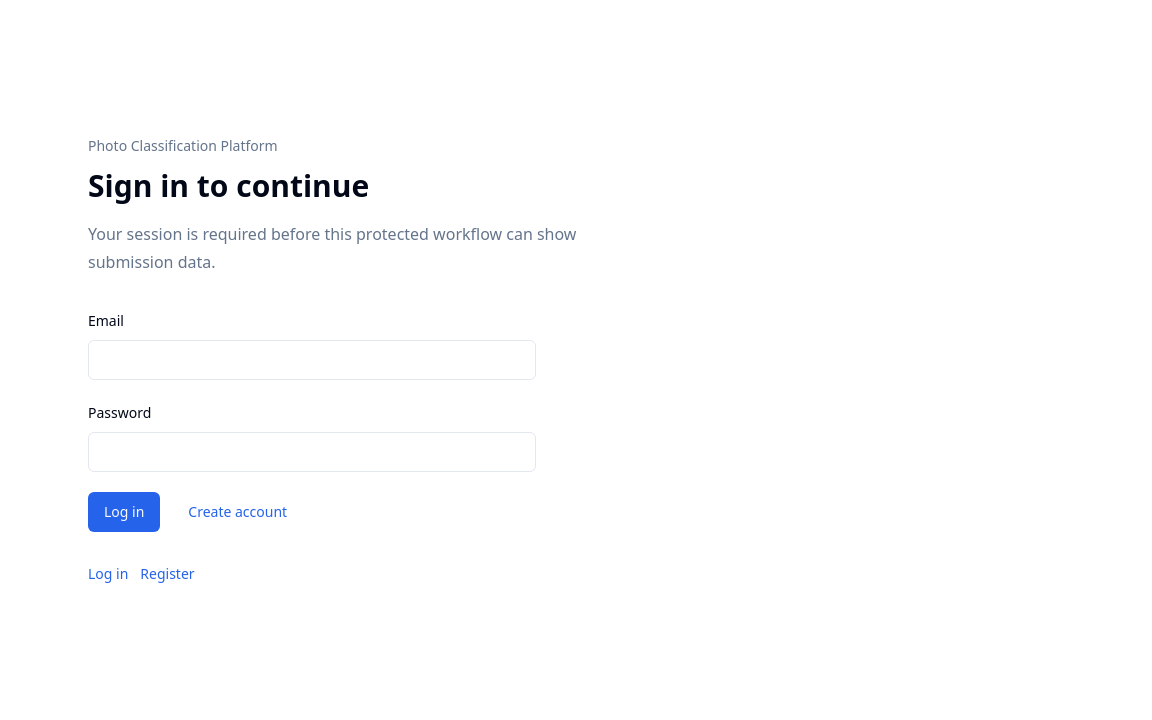
it: auth route flow › uses a neutral workspace fallback for unsafe return targets
Type "user@example.com" into the field labelled "Email".
click(312, 360); type("user@example.com")  # box [88,340,536,380]
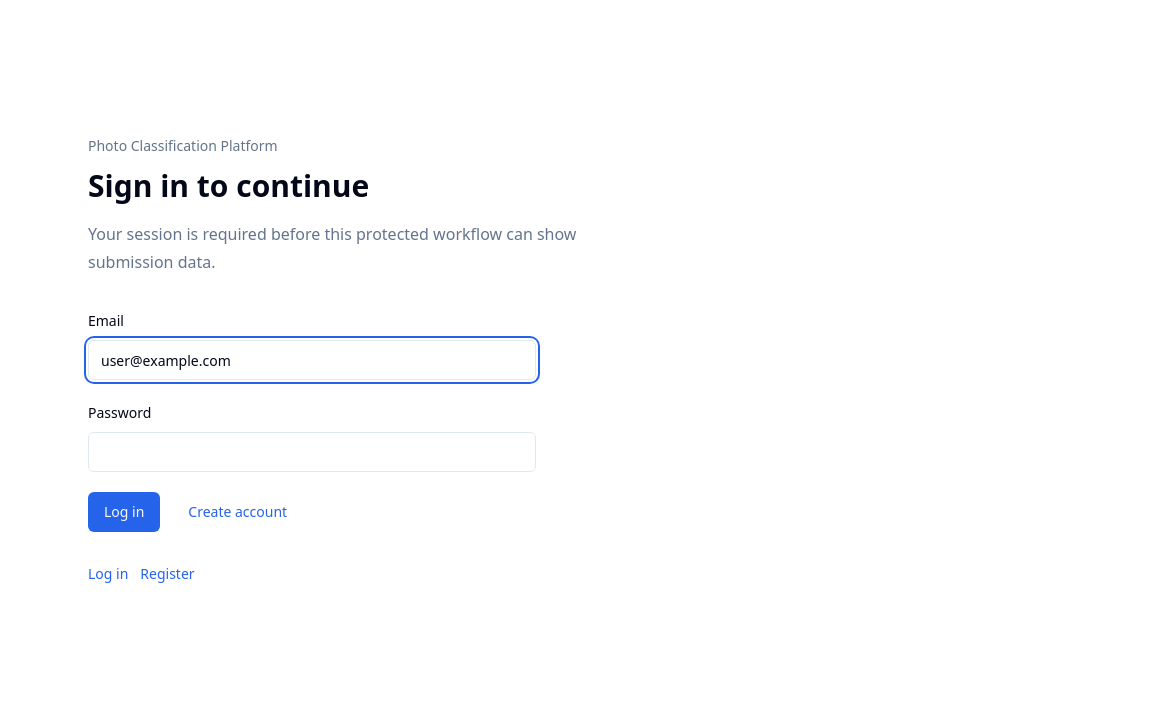
Type "StrongPassword123!" into the password field labelled "Password".
click(312, 452); type("StrongPassword123!")  # box [88,432,536,472]
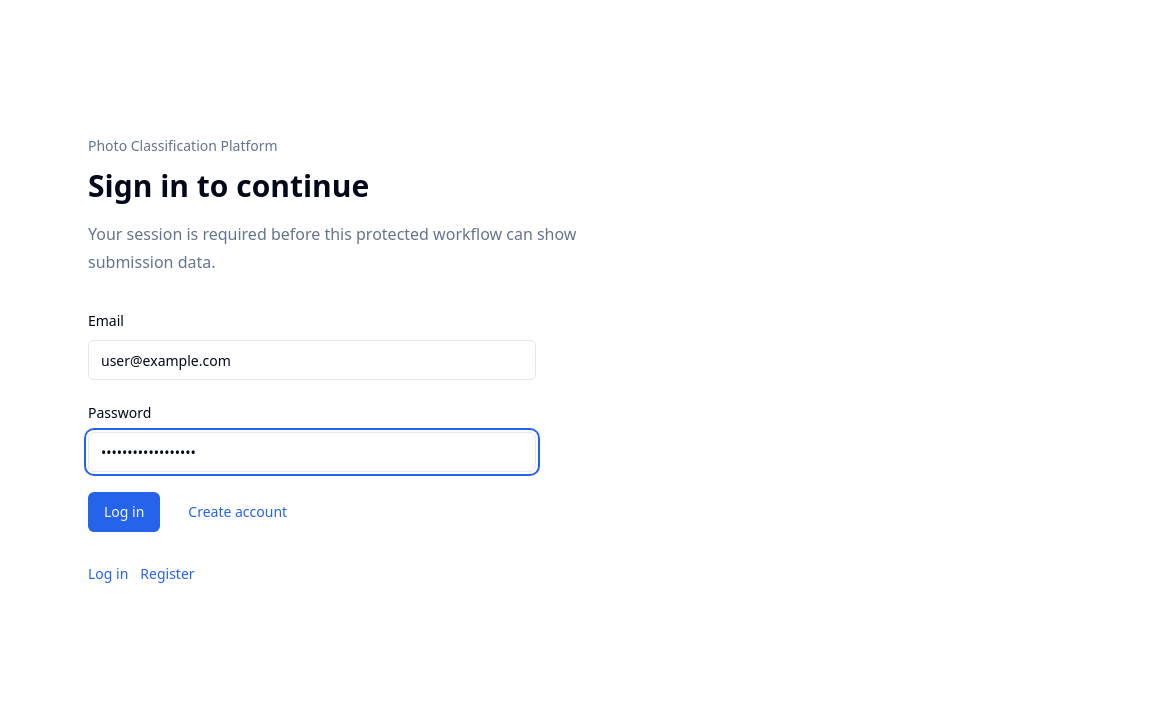
Click the button "Log in".
click(124, 512)  # box [88,492,160,532]
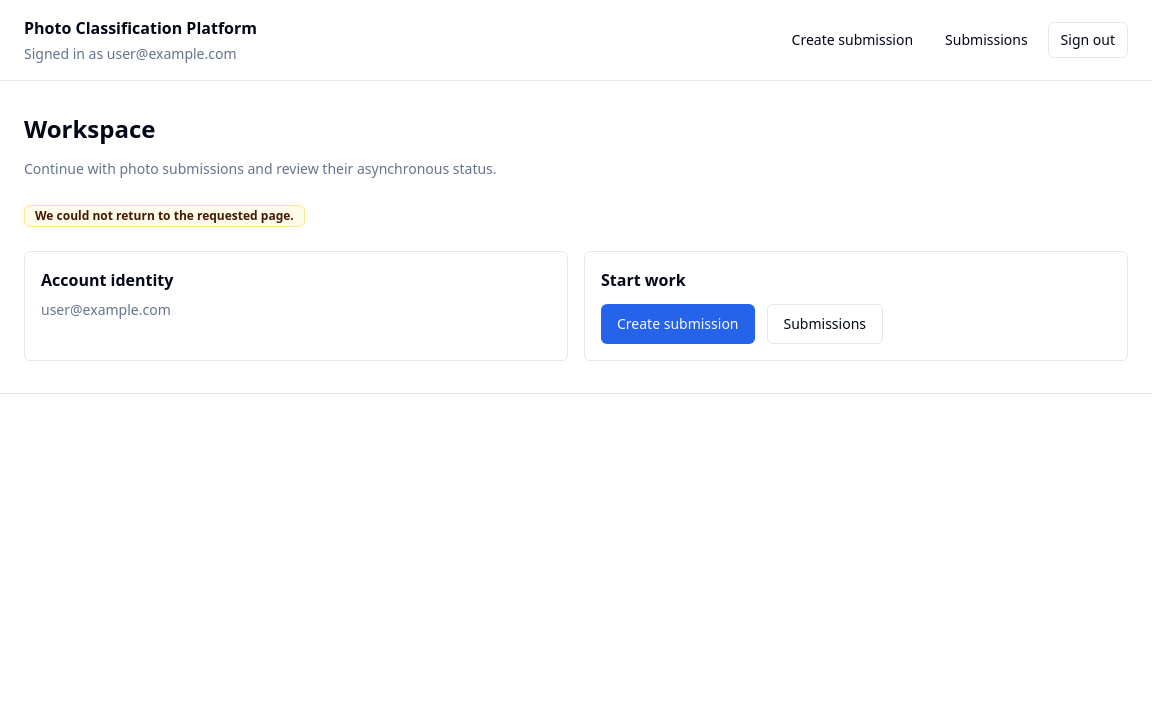
Expected: the heading "Workspace" is shown, [24,112,156,145]
Expected: the text "We could not return to the requested page." is shown, [35,207,294,224]
